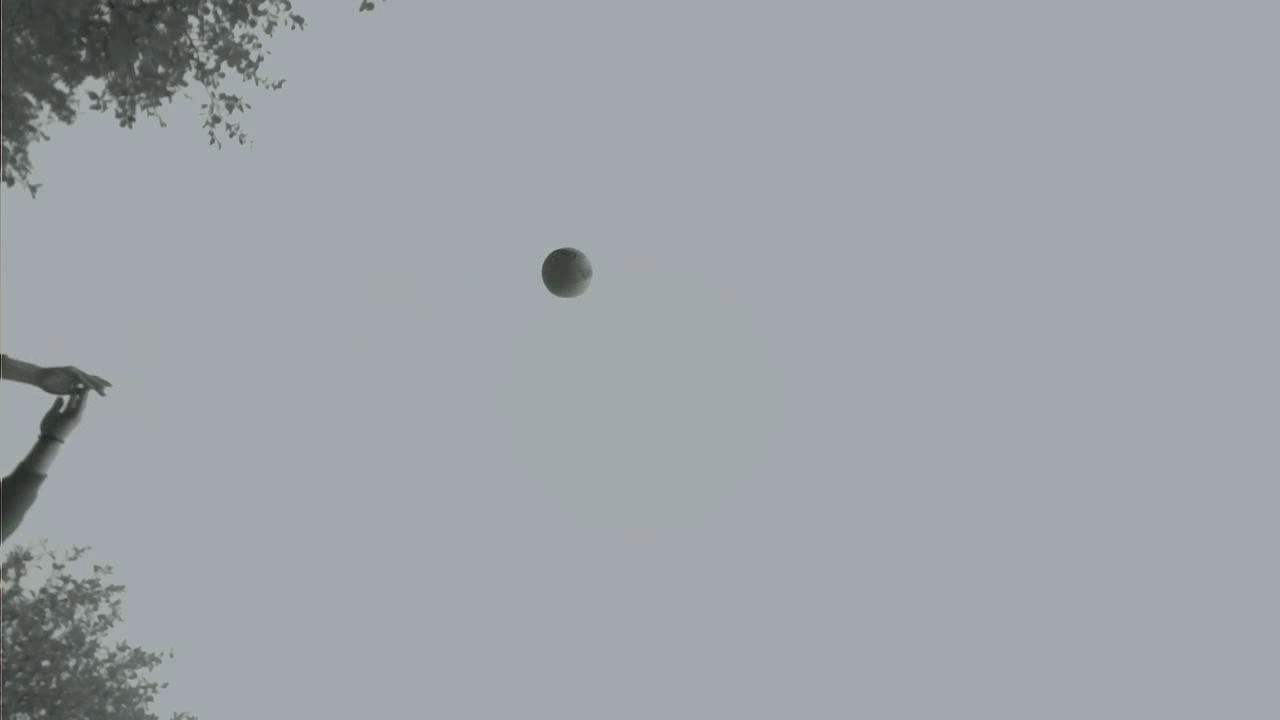Football-Spotter: (543, 248, 592, 297)
